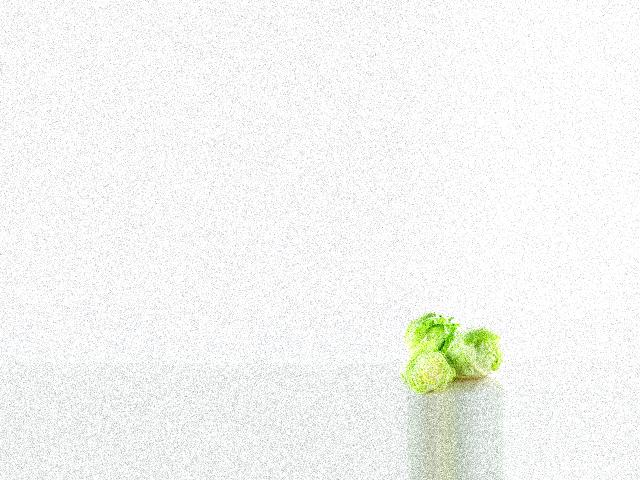lettuce: (402, 307, 462, 356)
